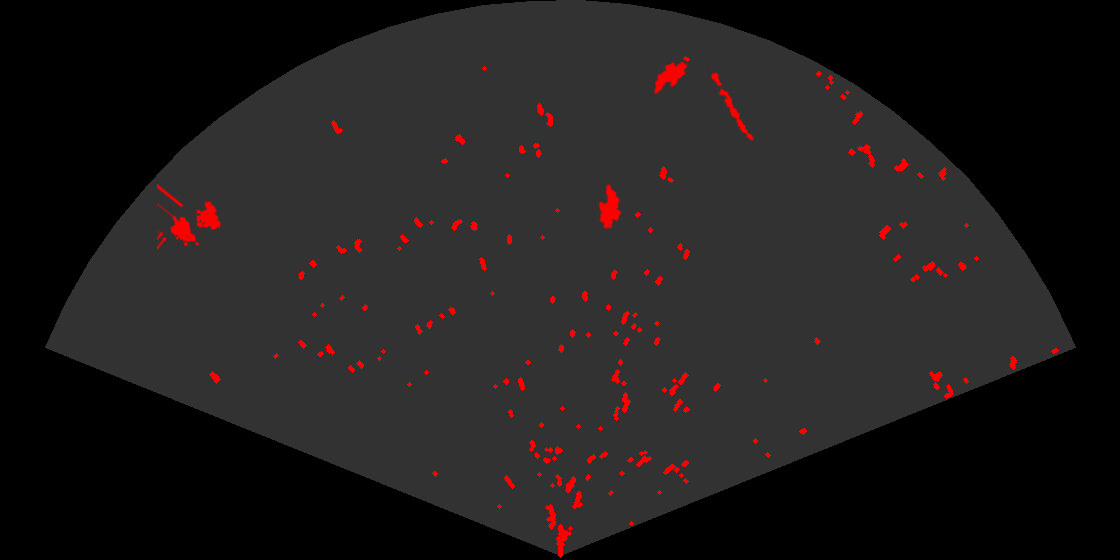AUV: (652, 60, 689, 96), (597, 182, 623, 231)
cage: (157, 184, 222, 252)
chain: (707, 67, 755, 142)
